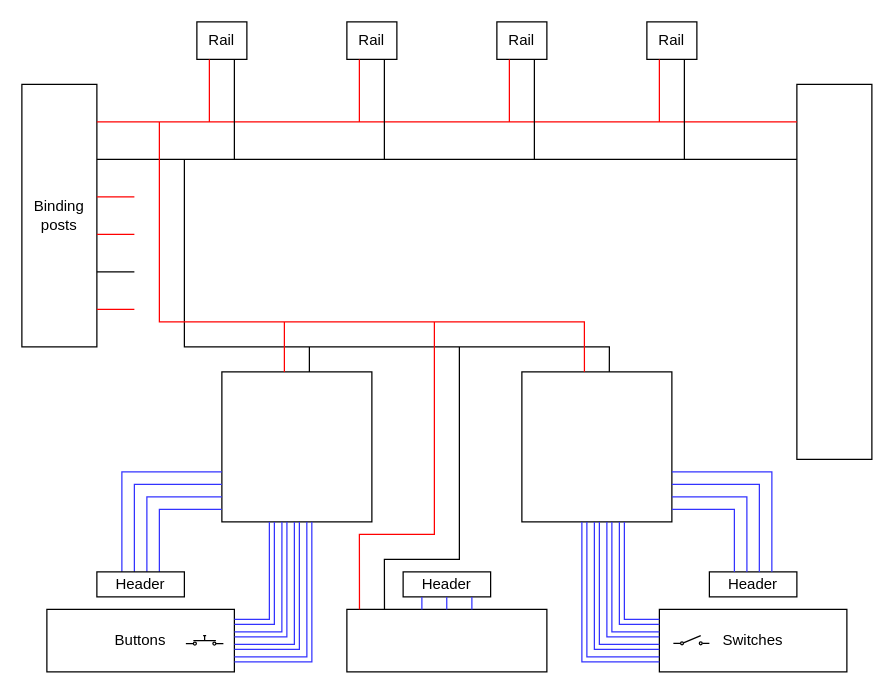
Image size: 894x694. Some labels were removed from this diagram. The shapes that lost their labels are listed below. From the top down, each one's centre as x and y in pixels, then its label:
At (834,271): "LED PCB".
At (296,446): "Buttons debounce PCB".
At (596,446): "Switches debounce PCB".
At (446,640): "Potentiometers".
